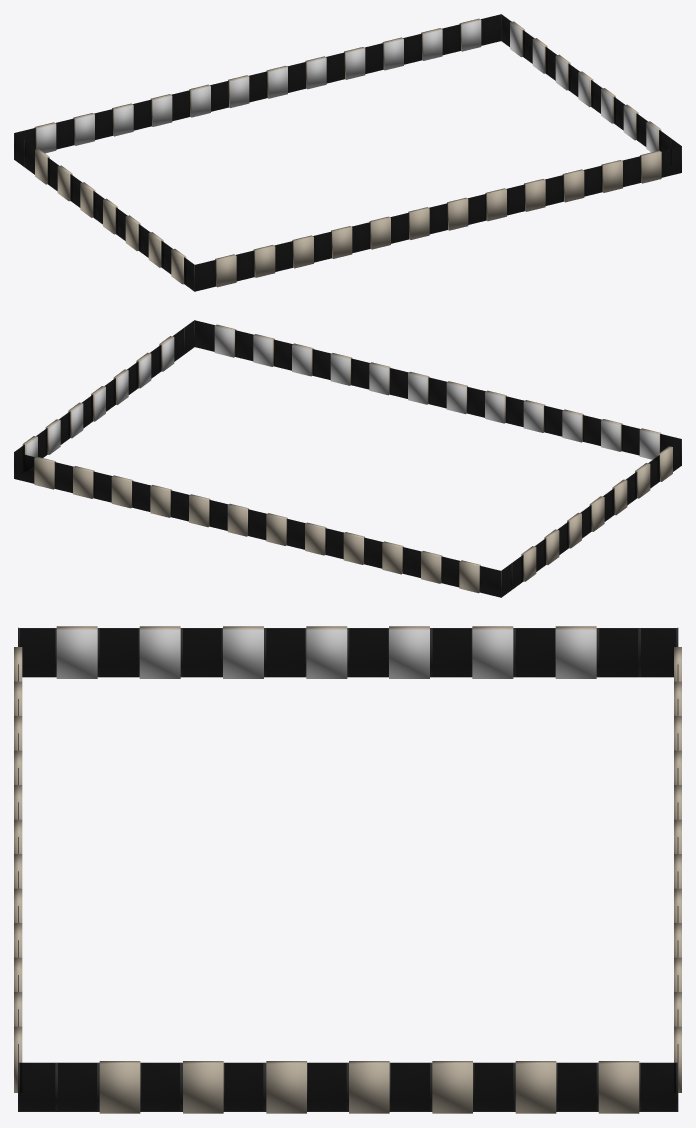
File: PunchWindows_WWR20p-25p_9ft.obj
3 views of the same model, one above another, from view 1: azimuth 30°, elevation 25°; view 2: azimuth 150°, elevation 25°; view 3: azimuth 270°, elevation 25° (orthographic). The views are drawn at different scales.
Visible parts, largest first — view 1: group_tintglass, group_Exterior_Envelope, group_InteriorPaint, group_Mullion, group_InteriorTransparent; view 2: group_tintglass, group_Exterior_Envelope, group_InteriorPaint, group_Mullion; view 3: group_tintglass, group_Exterior_Envelope, group_InteriorPaint, group_Mullion.
Part boxes in pixels (x1,y1,x2,y2): group_tintglass: [14, 14, 681, 291]; group_Exterior_Envelope: [34, 18, 661, 287]; group_InteriorPaint: [37, 20, 657, 153]; group_Mullion: [14, 14, 681, 291]; group_InteriorTransparent: [268, 67, 287, 98]; group_tintglass: [14, 320, 681, 597]; group_Exterior_Envelope: [22, 324, 672, 593]; group_InteriorPaint: [26, 326, 658, 459]; group_Mullion: [14, 320, 681, 597]; group_tintglass: [18, 628, 678, 1111]; group_Exterior_Envelope: [14, 626, 681, 1113]; group_InteriorPaint: [56, 629, 596, 678]; group_Mullion: [18, 627, 678, 1111].
Bounding box in the file's own units: 38.71 × 2.02 × 24.94.
